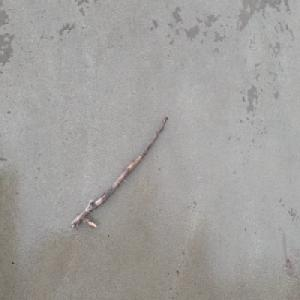Wood: (69, 114, 169, 232)
